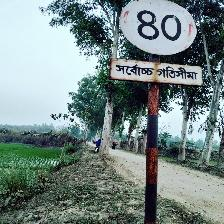Speed-limit: (110, 0, 201, 87)
